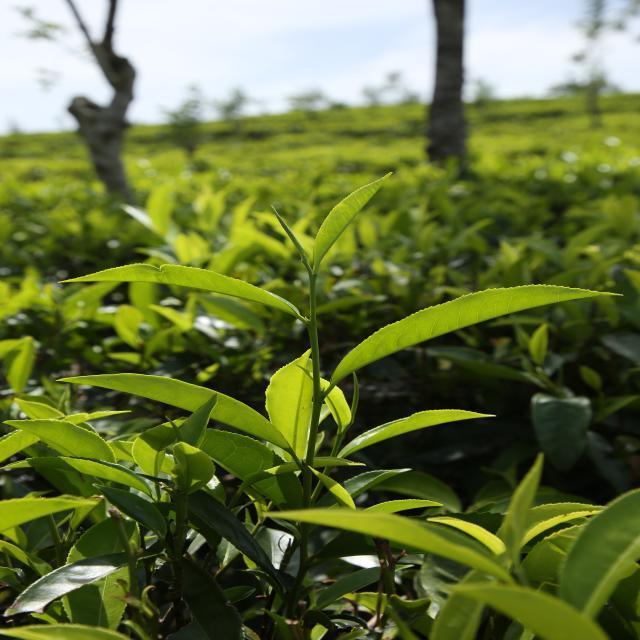Stem: (310, 276, 316, 284), (338, 433, 344, 439)
